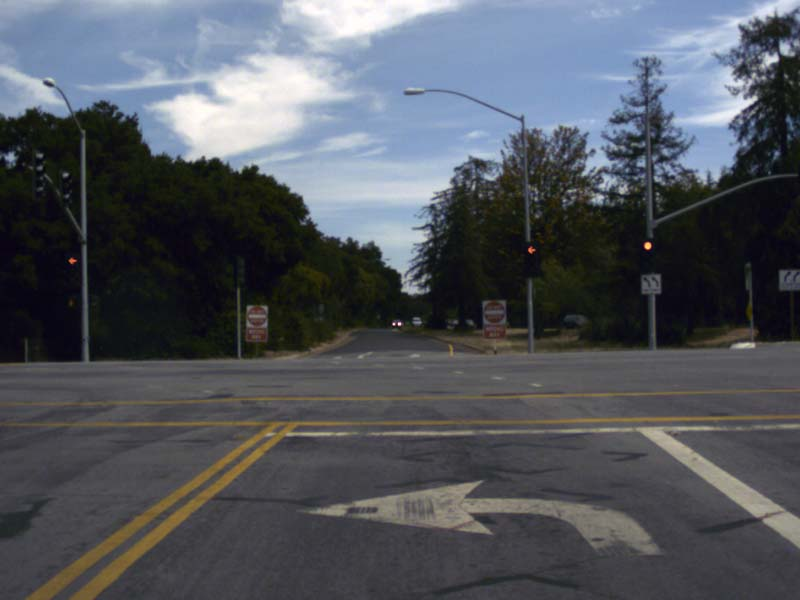Red: (523, 242, 539, 276), (66, 252, 80, 289), (639, 238, 654, 272)
